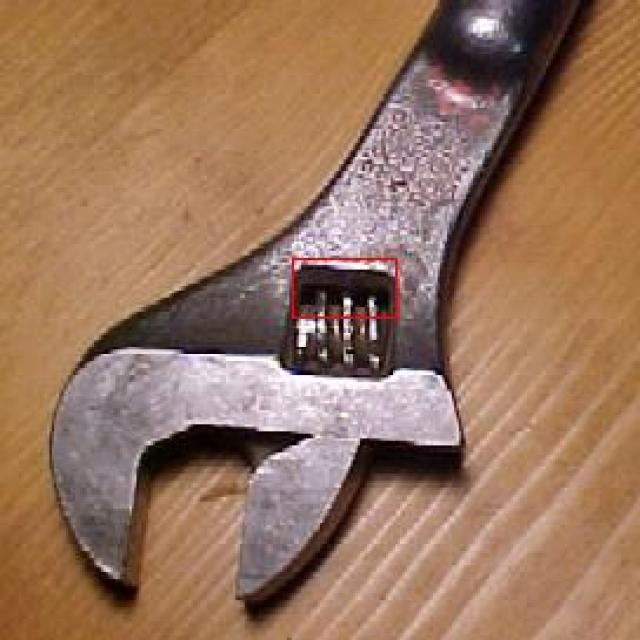wrench: (29, 0, 588, 627)
